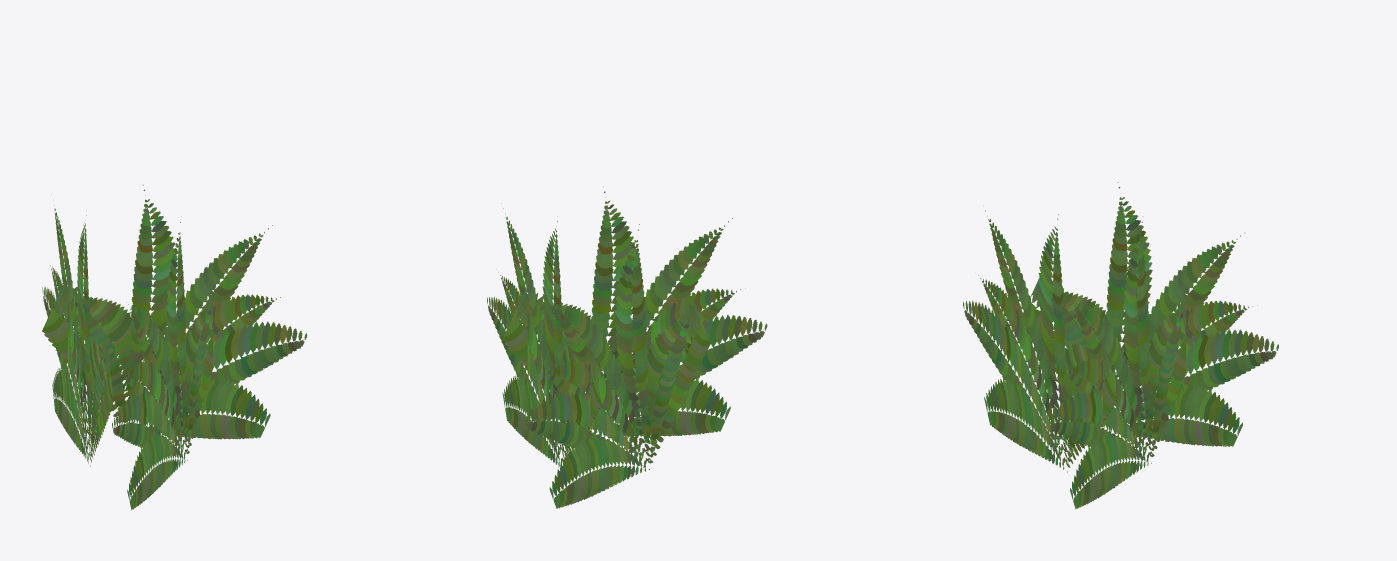
Rendered from Fern_2_LOD1.gltf.
The picture shows the model from 3 angles, left to right: view 1: azimuth 30°, elevation 25°; view 2: azimuth 150°, elevation 25°; view 3: azimuth 270°, elevation 25°; orthographic projection.
Visible parts, largest first — view 1: Fern_2_LOD1; view 2: Fern_2_LOD1; view 3: Fern_2_LOD1.
Boxes of the visible parts, <box> form: Fern_2_LOD1: <box>42,185,307,510</box>; Fern_2_LOD1: <box>487,186,767,508</box>; Fern_2_LOD1: <box>963,182,1278,509</box>.
Size of the model in its own units: 1.41 by 1.61 by 1.5.
1 material, 1 textured.
